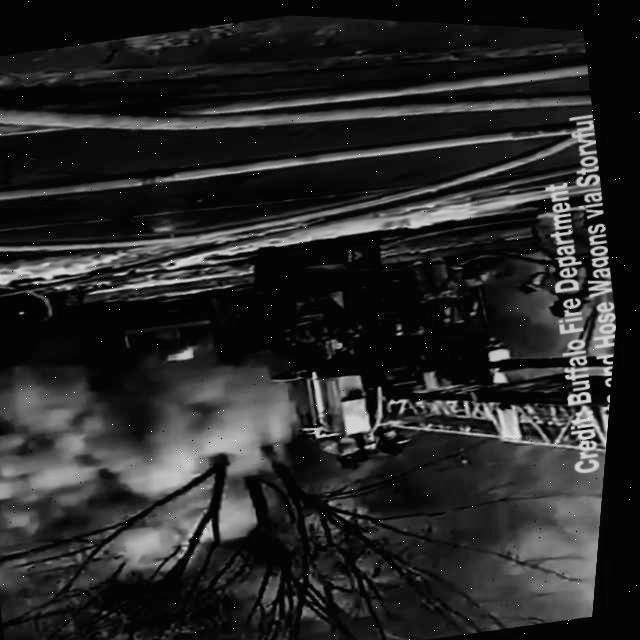Smoke: (0, 285, 311, 600)
